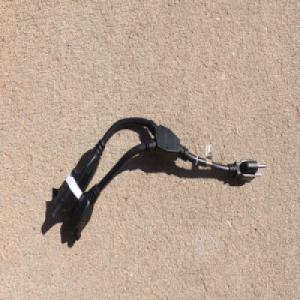Wire: (50, 116, 268, 242)
